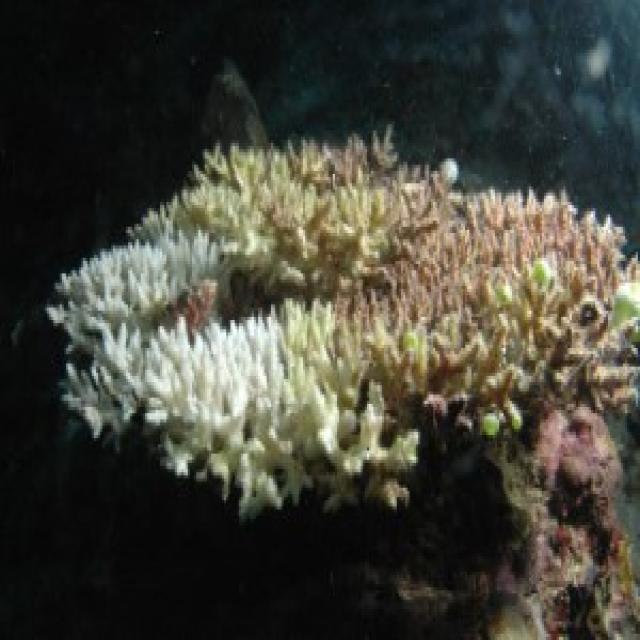Bleached: (65, 302, 338, 514), (50, 225, 221, 346)
Healthy: (362, 181, 639, 433), (170, 131, 460, 296)
